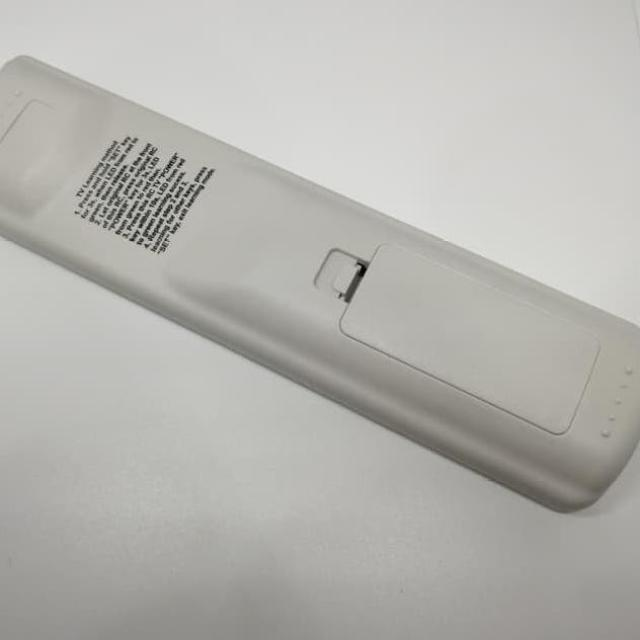remote: (0, 49, 638, 522)
